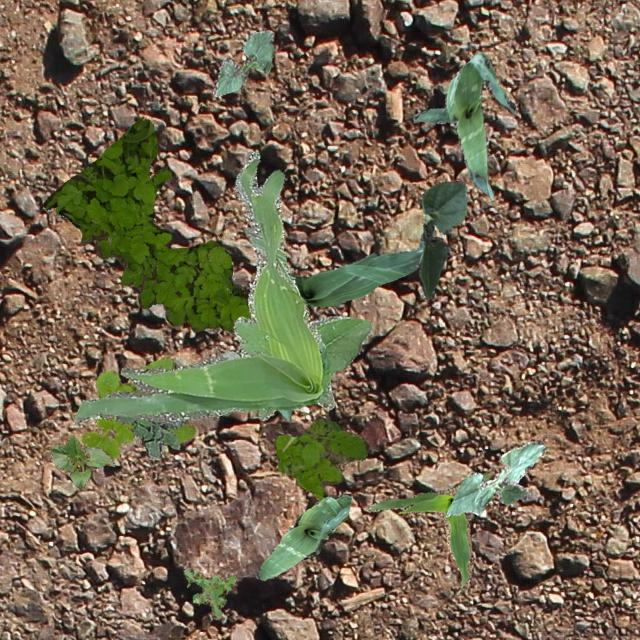crop: (412, 50, 516, 198), (368, 471, 490, 588), (256, 314, 372, 420), (290, 232, 422, 306), (256, 492, 350, 580), (444, 440, 544, 516), (418, 180, 466, 298), (212, 28, 274, 96), (49, 434, 112, 489), (276, 408, 292, 420)
weed: (74, 150, 332, 424), (42, 116, 250, 332), (80, 356, 194, 458), (274, 416, 368, 498), (114, 414, 184, 458), (182, 566, 235, 618)
